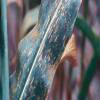Corn rust leaf: (9, 0, 85, 99)
